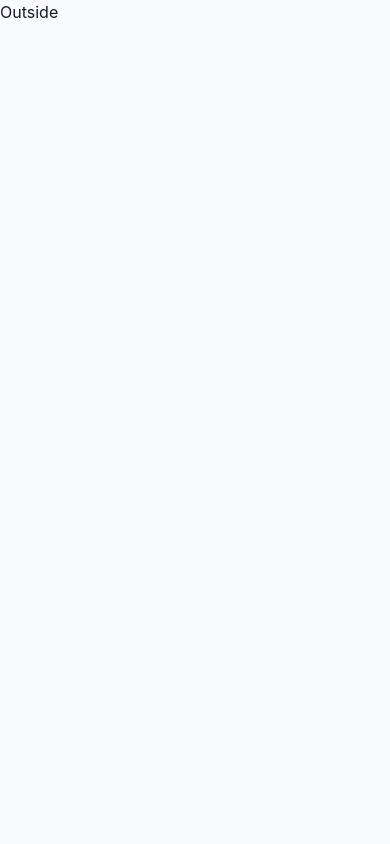
Test: command palette › ranks a used command first on the next empty query
Press k
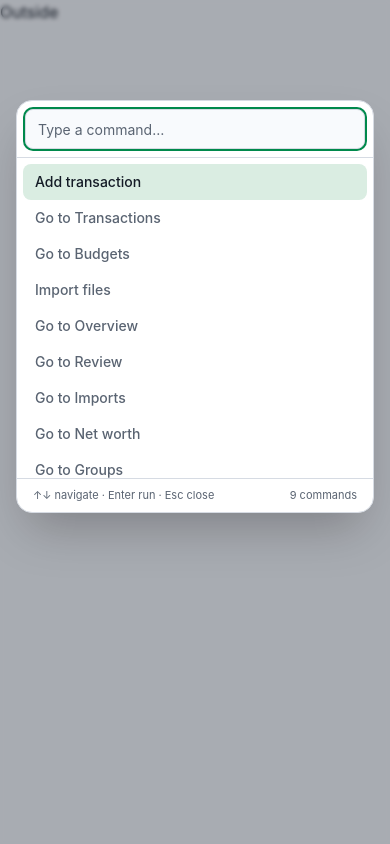
Check: the dialog named "Command palette" is shown, box left=16, top=100, right=374, bottom=513
Type "Net worth" into the dropdown named "Search commands" at x=195, y=129, box left=25, top=109, right=365, bottom=149
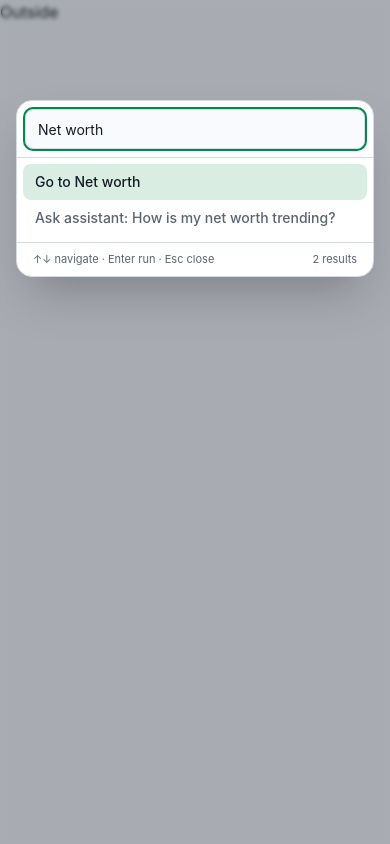
Press Enter
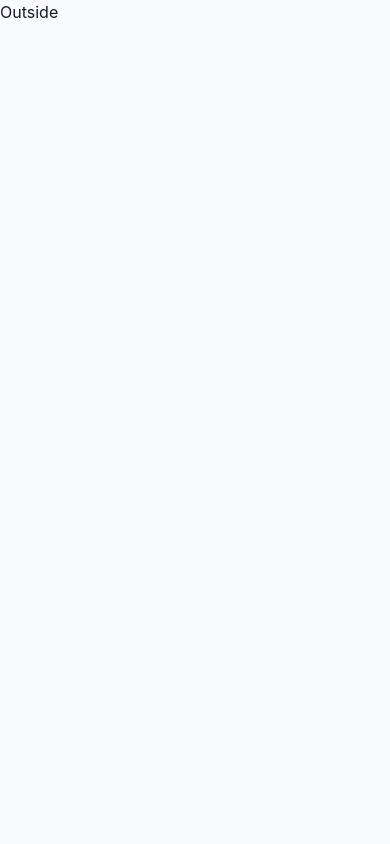
Press k
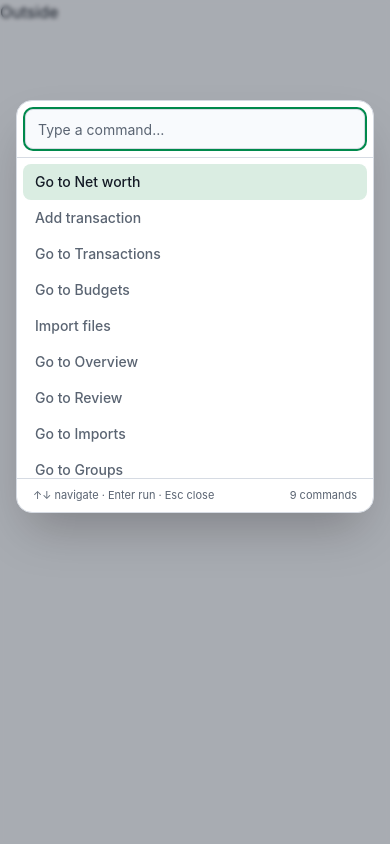
Check: the dialog named "Command palette" is shown, box left=16, top=100, right=374, bottom=513
Check: the option "Go to Net worth" is shown, box left=23, top=164, right=367, bottom=200
